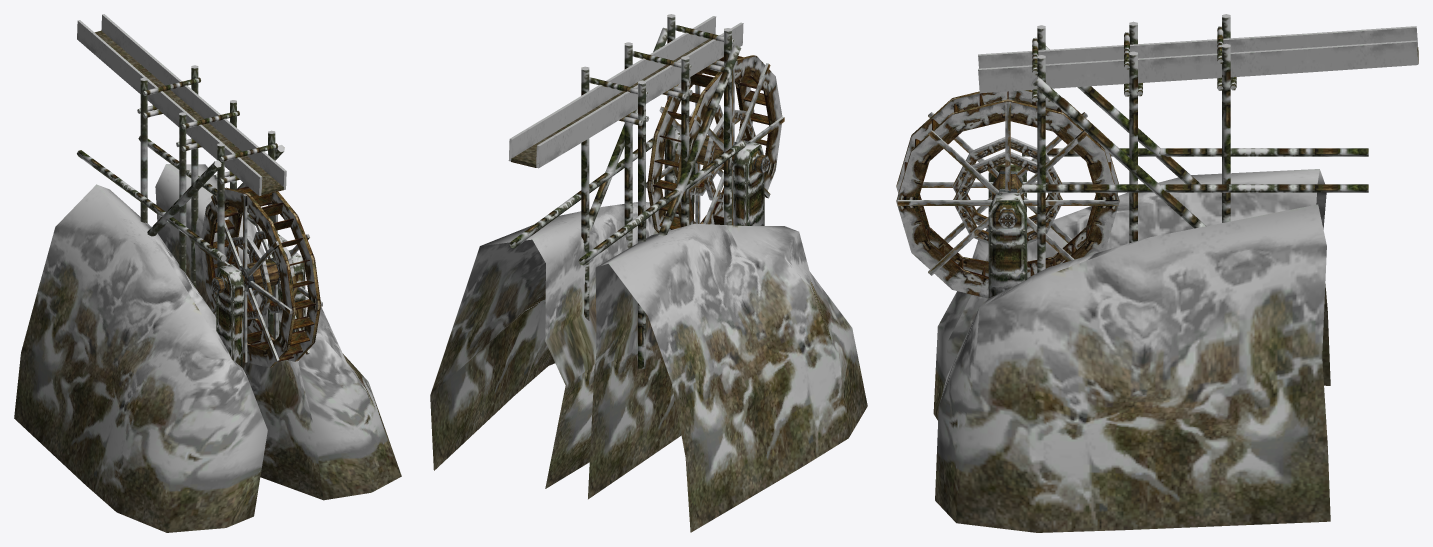
File: general_obj_watermill_01.fbx
3 renders of one model, left to right at view 1: azimuth 30°, elevation 25°; view 2: azimuth 150°, elevation 25°; view 3: azimuth 270°, elevation 25°, orthographic. The views are drawn at different scales.
Visible parts, largest first — view 1: general_obj_watermill2, general_obj_watermill1; view 2: general_obj_watermill2, general_obj_watermill1; view 3: general_obj_watermill2, general_obj_watermill1.
Part boxes in pixels (bbox=[...]): general_obj_watermill2: bbox=[14, 14, 401, 532]; general_obj_watermill1: bbox=[198, 185, 322, 367]; general_obj_watermill2: bbox=[430, 14, 867, 532]; general_obj_watermill1: bbox=[646, 55, 784, 232]; general_obj_watermill2: bbox=[933, 14, 1418, 532]; general_obj_watermill1: bbox=[896, 90, 1119, 298].
Bounding box in the file's own units: 16.45 × 20.58 × 23.03.
